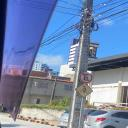NoEstacionar: (78, 72, 94, 84)
